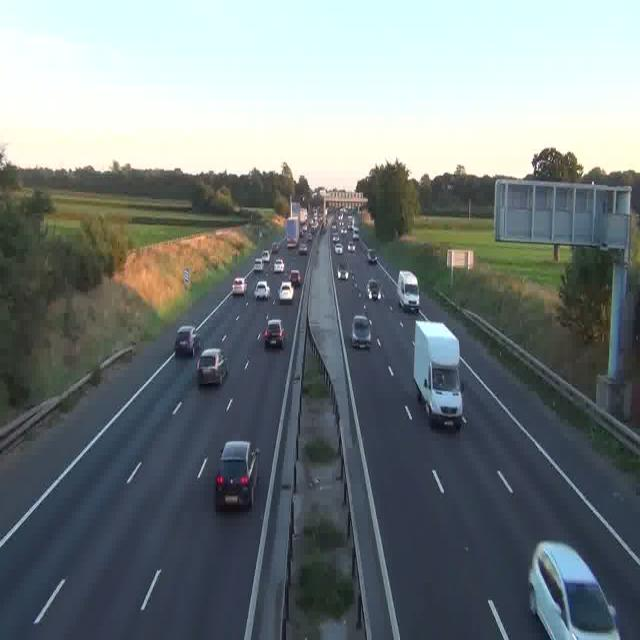car: (528, 539, 619, 640), (215, 442, 258, 509), (197, 348, 226, 386), (174, 326, 200, 356), (351, 313, 371, 348), (264, 320, 284, 348), (279, 281, 295, 302), (232, 277, 247, 296), (256, 280, 270, 300), (368, 281, 381, 300), (289, 268, 301, 286), (338, 264, 350, 280), (272, 258, 284, 273), (254, 256, 266, 271), (368, 251, 377, 265), (299, 244, 307, 256), (348, 240, 356, 252), (335, 242, 343, 253), (332, 231, 340, 242)
truck: (412, 321, 464, 430), (396, 270, 421, 313), (285, 216, 298, 245), (300, 210, 309, 231)
